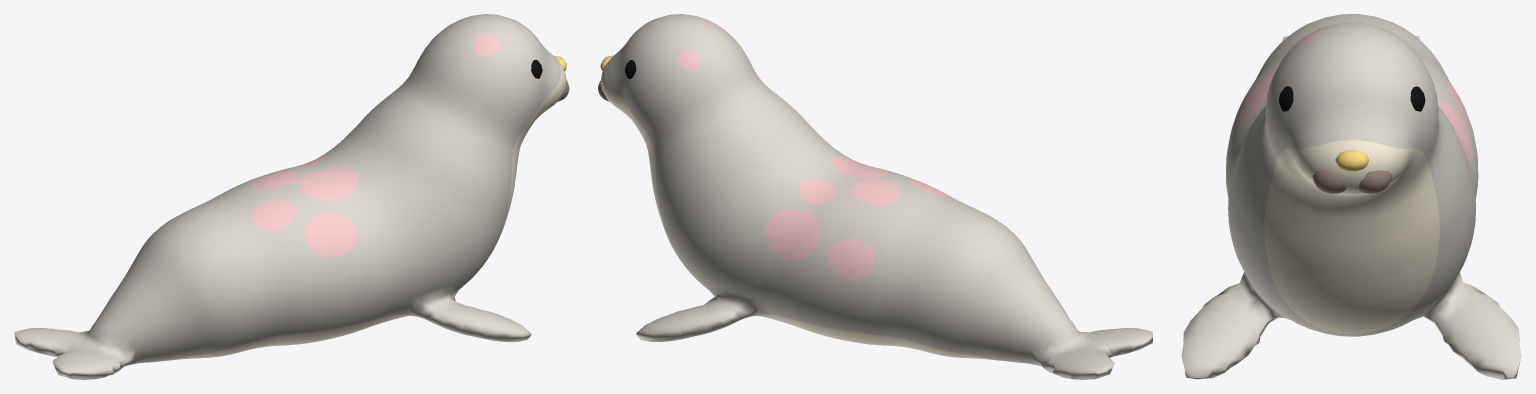
File: seal_adult.glb
3 renders of one model, left to right at view 1: azimuth 30°, elevation 25°; view 2: azimuth 150°, elevation 25°; view 3: azimuth 270°, elevation 25°, orthographic. The views are drawn at different scales.
Visible parts, largest first — view 1: body; view 2: body; view 3: body, beak, eye.
Boxes of the visible parts, x1=… form: body: x1=14, y1=14, x2=566, y2=379; body: x1=600, y1=14, x2=1152, y2=379; body: x1=1181, y1=14, x2=1521, y2=379; beak: x1=1312, y1=150, x2=1391, y2=193; eye: x1=1278, y1=86, x2=1425, y2=111.
Size of the model in its own units: 2.84 by 1.39 by 1.18.
